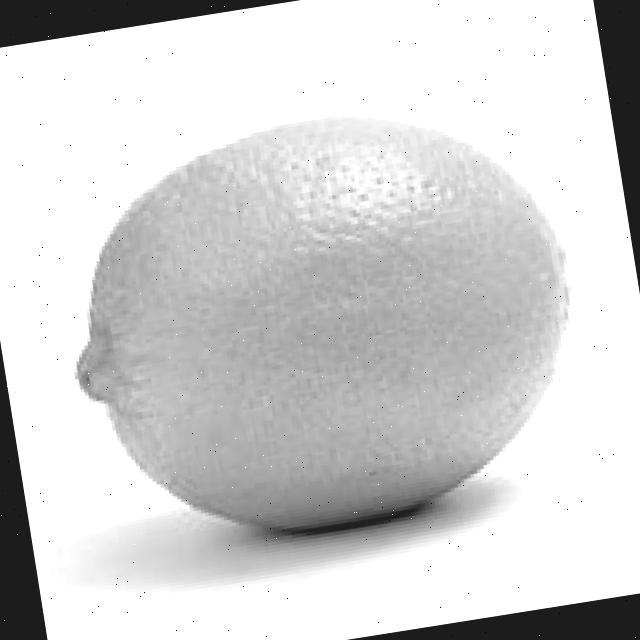Ripe: (28, 76, 606, 567)
